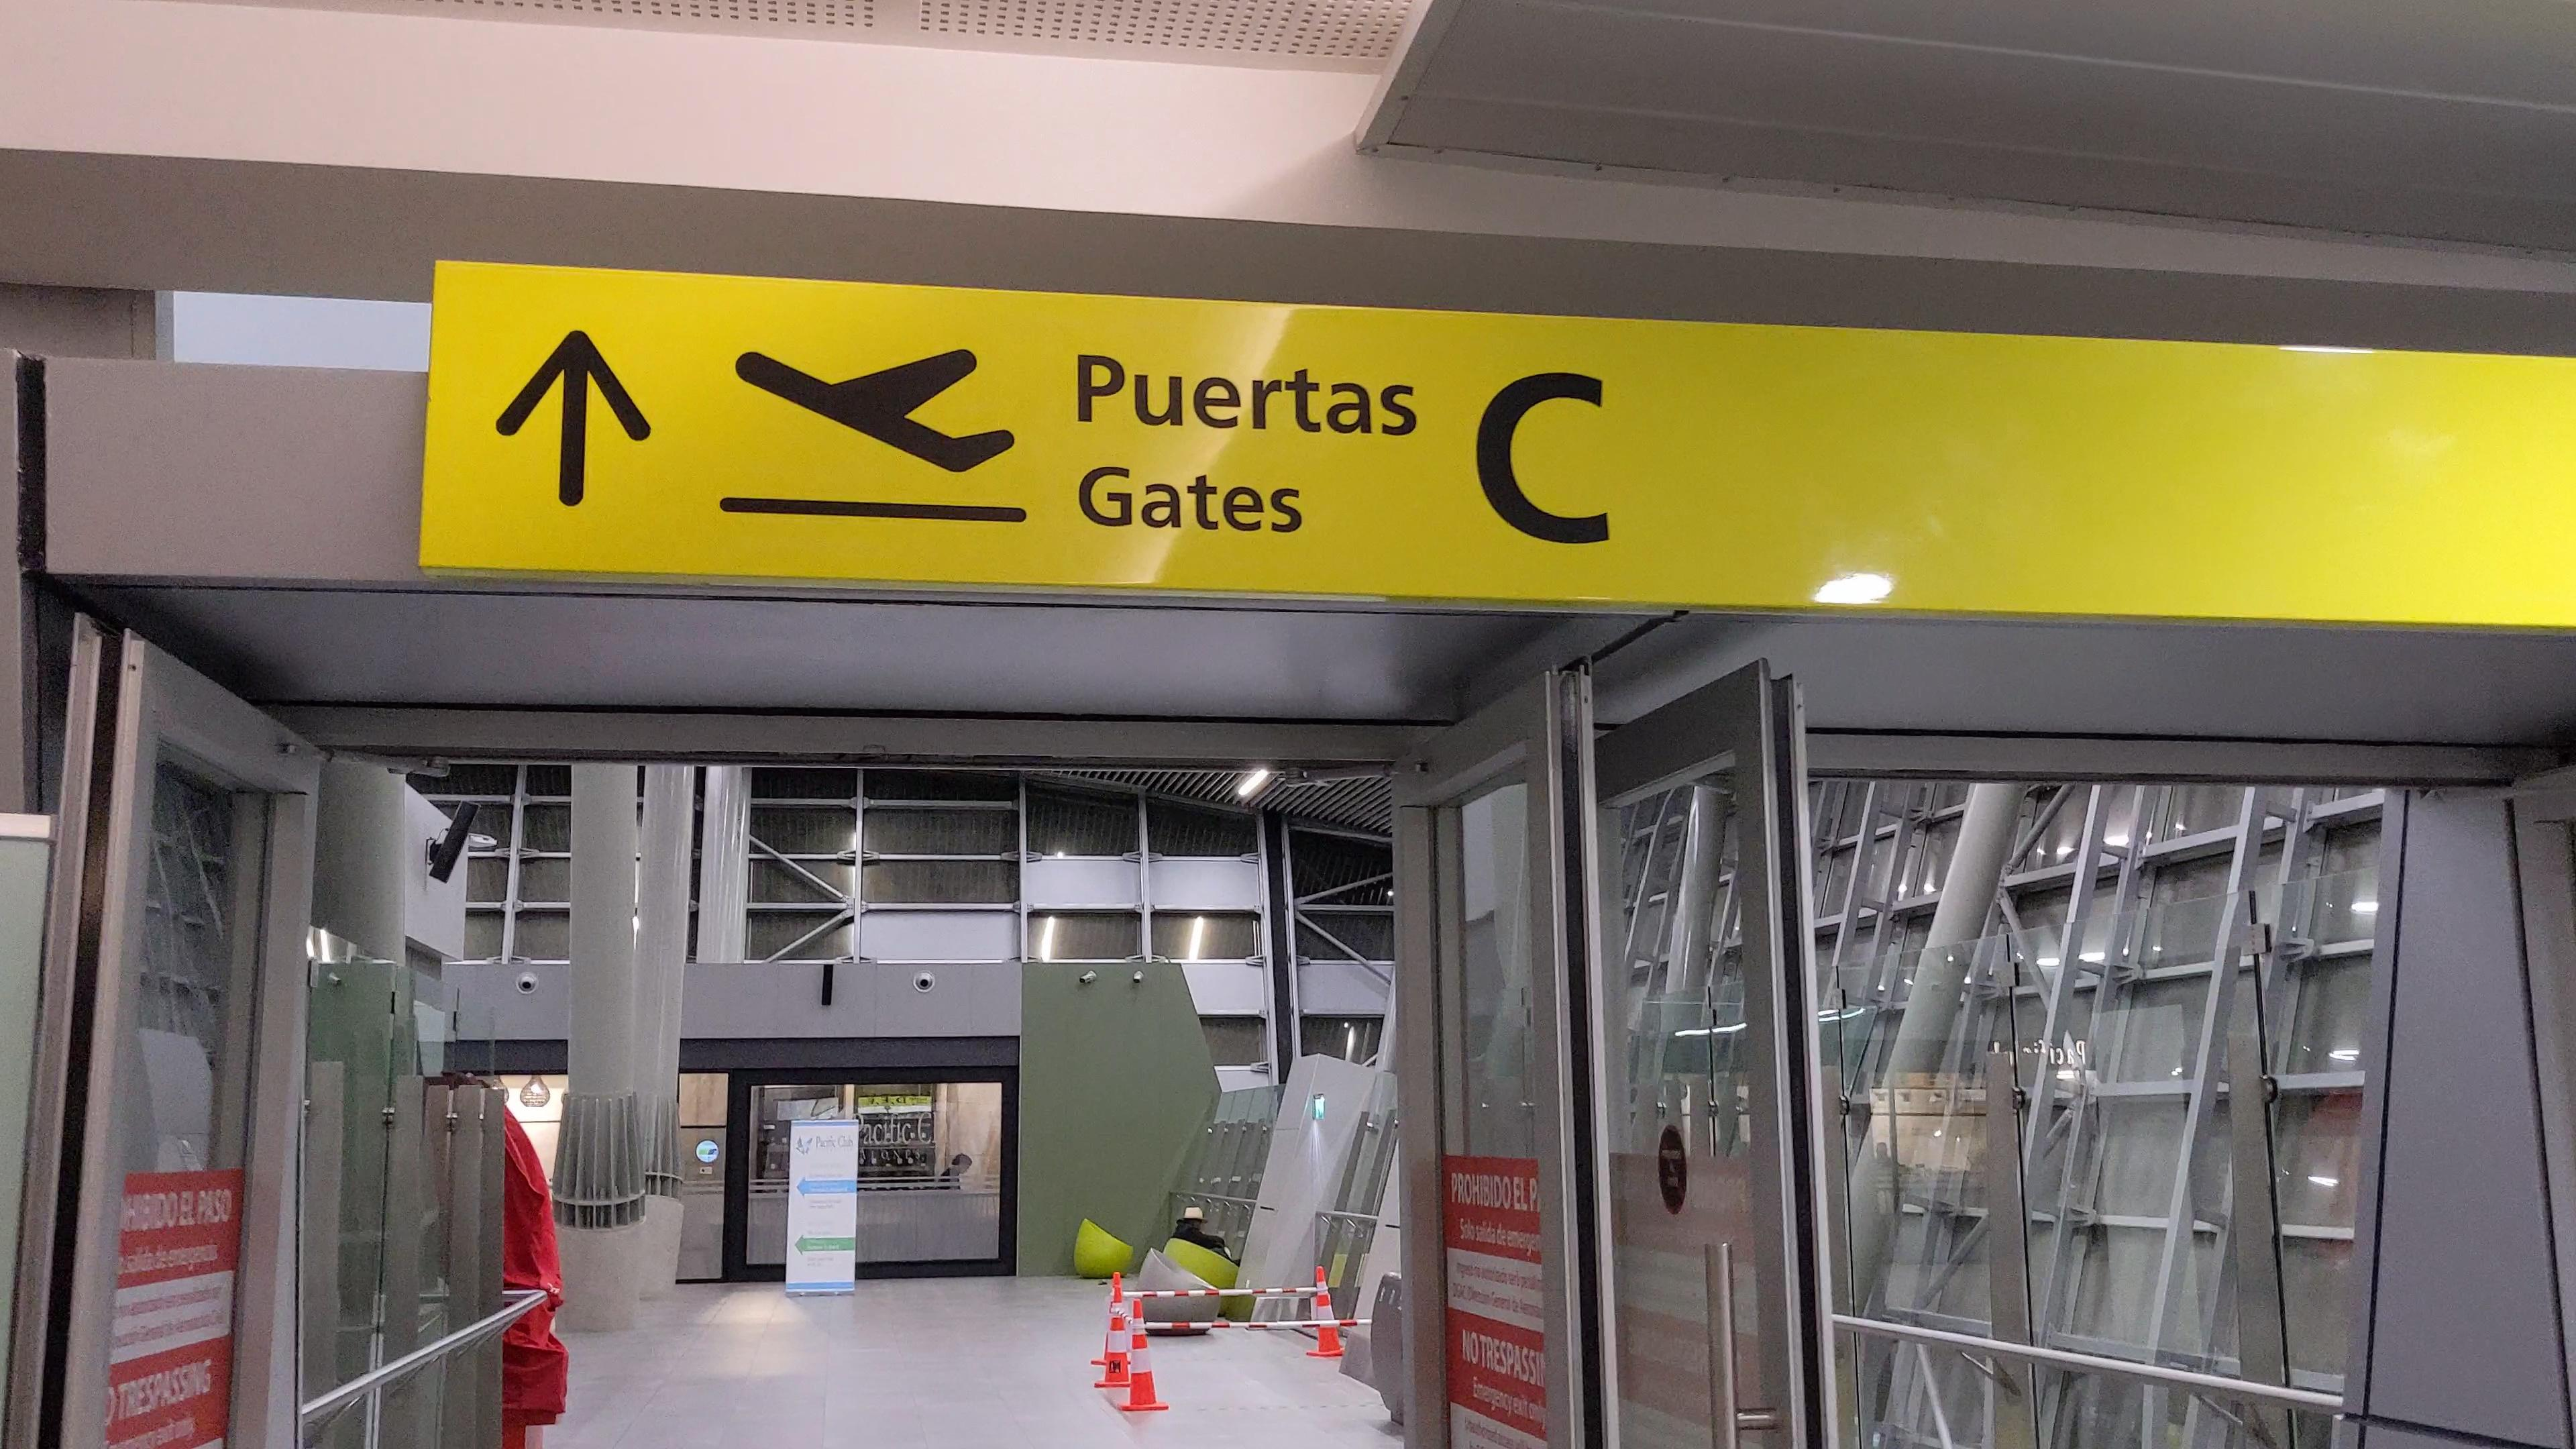airplane symbol: (729, 340, 1019, 479)
no trespassing: (101, 1187, 234, 1438), (1447, 1175, 1555, 1445), (1458, 1288, 1557, 1433)
thin up arrow: (492, 322, 655, 508)
